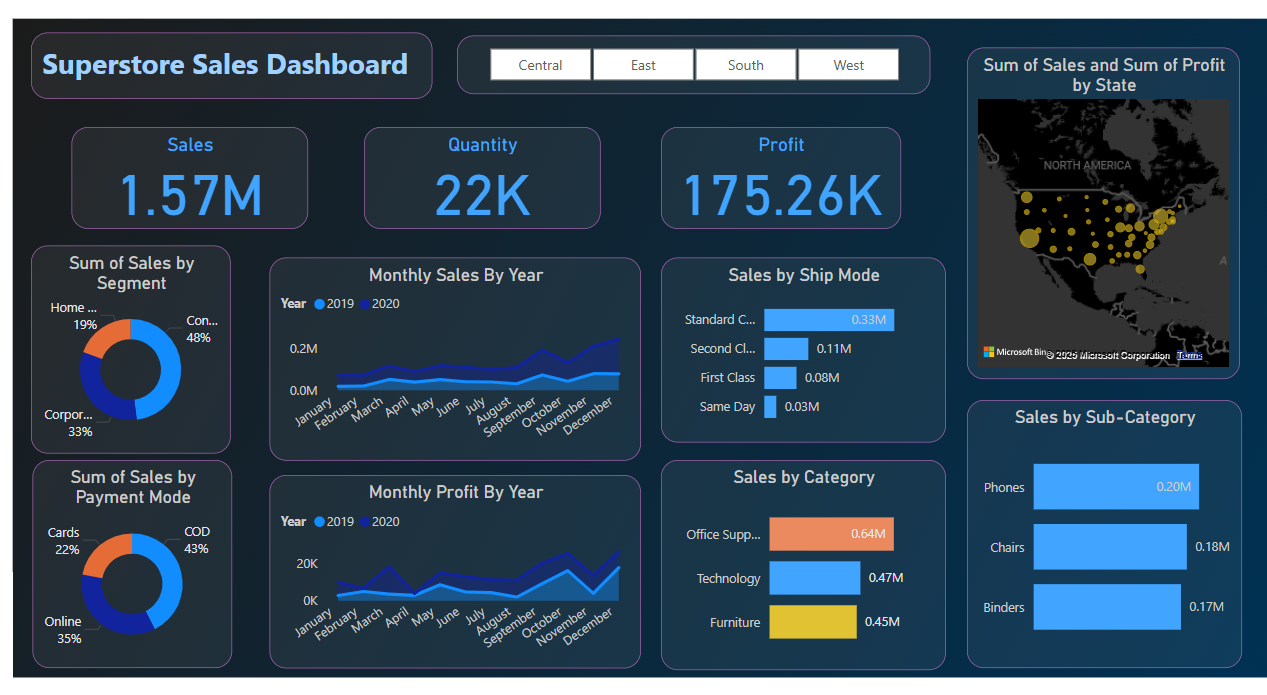

Layout of this report page (visuals, bound fields, positions):
{"tool":"powerbi","page":{"name":"Page 1","canvas":[1280,720],"ordinal":0},"visuals":[{"type":"clusteredBarChart","title":"Sales by Category","fields":{"Category":["SuperStore_Sales_Dataset.Category"],"Y":["Sum(SuperStore_Sales_Dataset.Sales)"]},"box":[658.5,464.5,272,200.4],"z":0},{"type":"clusteredBarChart","title":" Sales by Sub-Category","fields":{"Y":["Sum(SuperStore_Sales_Dataset.Sales)"],"Category":["SuperStore_Sales_Dataset.Sub-Category"]},"box":[951.2,407.2,262.5,256.1],"z":1000},{"type":"clusteredBarChart","title":" Sales by Ship Mode","fields":{"Y":["Sum(SuperStore_Sales_Dataset.Sales)"],"Category":["SuperStore_Sales_Dataset.Ship Mode"]},"box":[658.5,270.4,272,176.6],"z":2000},{"type":"stackedAreaChart","title":"Monthly Sales By Year","fields":{"Y":["Sum(SuperStore_Sales_Dataset.Sales)"],"Series":["SuperStore_Sales_Dataset.Order Date.Variation.Date Hierarchy.Year"],"Category":["SuperStore_Sales_Dataset.Order Date.Variation.Date Hierarchy.Month","SuperStore_Sales_Dataset.Order Date.Variation.Date Hierarchy.Day"]},"box":[284.7,270.4,354.7,194.1],"z":3000},{"type":"stackedAreaChart","title":"Monthly Profit By Year","fields":{"Series":["SuperStore_Sales_Dataset.Order Date.Variation.Date Hierarchy.Year"],"Category":["SuperStore_Sales_Dataset.Order Date.Variation.Date Hierarchy.Month","SuperStore_Sales_Dataset.Order Date.Variation.Date Hierarchy.Day"],"Y":["Sum(SuperStore_Sales_Dataset.Profit)"]},"box":[284.7,478.8,354.7,184.5],"z":4000},{"type":"map","fields":{"Category":["SuperStore_Sales_Dataset.State"],"Size":["Sum(SuperStore_Sales_Dataset.Sales)"]},"box":[951.2,70,260.9,316.5],"z":5000},{"type":"donutChart","fields":{"Category":["SuperStore_Sales_Dataset.Segment"],"Y":["Sum(SuperStore_Sales_Dataset.Sales)"]},"box":[57.3,259.3,190.9,198.8],"z":5001},{"type":"donutChart","fields":{"Category":["SuperStore_Sales_Dataset.Payment Mode"],"Y":["Sum(SuperStore_Sales_Dataset.Sales)"]},"box":[58.9,464.5,190.9,198.8],"z":5002},{"type":"slicer","fields":{"Values":["SuperStore_Sales_Dataset.Region"]},"box":[464.5,58.9,451.7,55.7],"z":5003},{"type":"textbox","box":[57.3,55.7,383.3,63.6],"z":5004},{"type":"card","title":"Sales","fields":{"Values":["Sum(SuperStore_Sales_Dataset.Sales)"]},"box":[95.4,146.3,225.9,97],"z":5005},{"type":"card","title":"Quantity","fields":{"Values":["Sum(SuperStore_Sales_Dataset.Quantity)"]},"box":[375.4,146.3,225.9,97],"z":5006},{"type":"card","title":"Profit","fields":{"Values":["Sum(SuperStore_Sales_Dataset.Profit)"]},"box":[658.5,146.3,229,97],"z":5007}]}

Visuals, with their boxes in screenshot pixels (x1, y1, x2, y2), scaled from the page's 1280x720 canvas onto the 1267x695 screenshot:
"Sales by Category" clusteredBarChart: box=[652, 448, 921, 642]
" Sales by Sub-Category" clusteredBarChart: box=[942, 393, 1201, 640]
" Sales by Ship Mode" clusteredBarChart: box=[652, 261, 921, 431]
"Monthly Sales By Year" stackedAreaChart: box=[282, 261, 633, 448]
"Monthly Profit By Year" stackedAreaChart: box=[282, 462, 633, 640]
map - SuperStore_Sales_Dataset.State x Sum(SuperStore_Sales_Dataset.Sales): box=[942, 68, 1200, 373]
donutChart - SuperStore_Sales_Dataset.Segment x Sum(SuperStore_Sales_Dataset.Sales): box=[57, 250, 246, 442]
donutChart - SuperStore_Sales_Dataset.Payment Mode x Sum(SuperStore_Sales_Dataset.Sales): box=[58, 448, 247, 640]
slicer - SuperStore_Sales_Dataset.Region: box=[460, 57, 907, 111]
textbox: box=[57, 54, 436, 115]
"Sales" card: box=[94, 141, 318, 235]
"Quantity" card: box=[372, 141, 595, 235]
"Profit" card: box=[652, 141, 878, 235]
